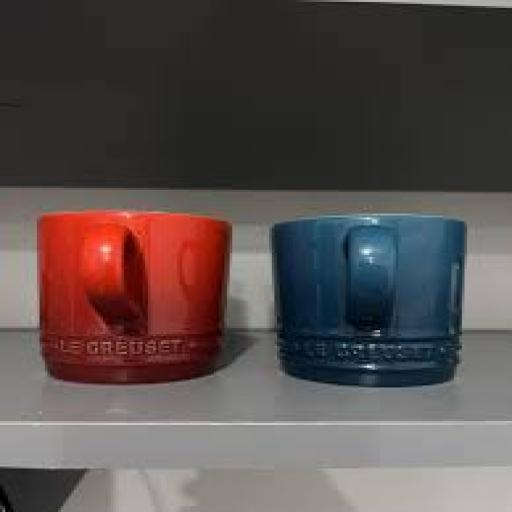red mug: (40, 212, 229, 383)
